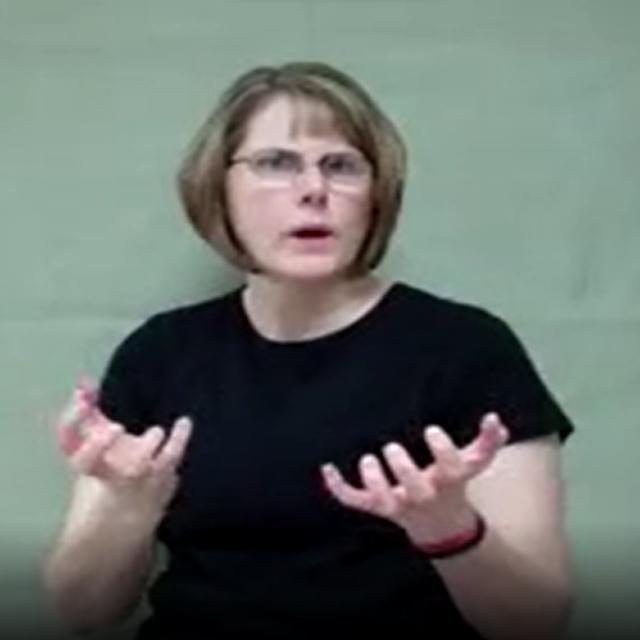want: (59, 380, 509, 517)
